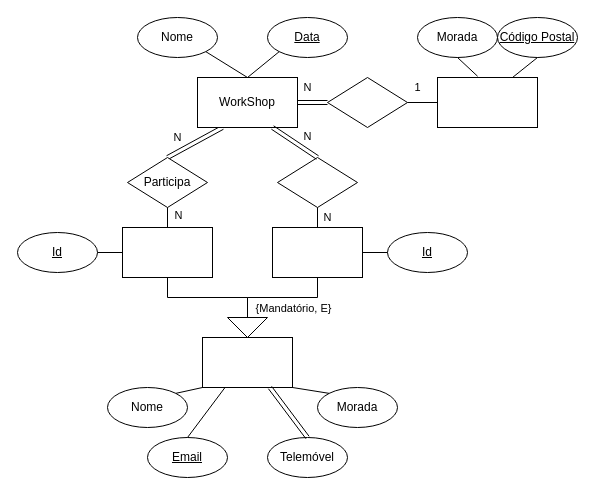
Some shapes in this 595 by 495 pixel diagram are drawn without their labels. Here are the shapes that lost their labels. From the top down, the centre of each, then its label:
(367,102): Decorre
(487,102): Local
(317,182): Forma
(167,252): Participante
(317,252): Formador
(247,362): Pessoa
